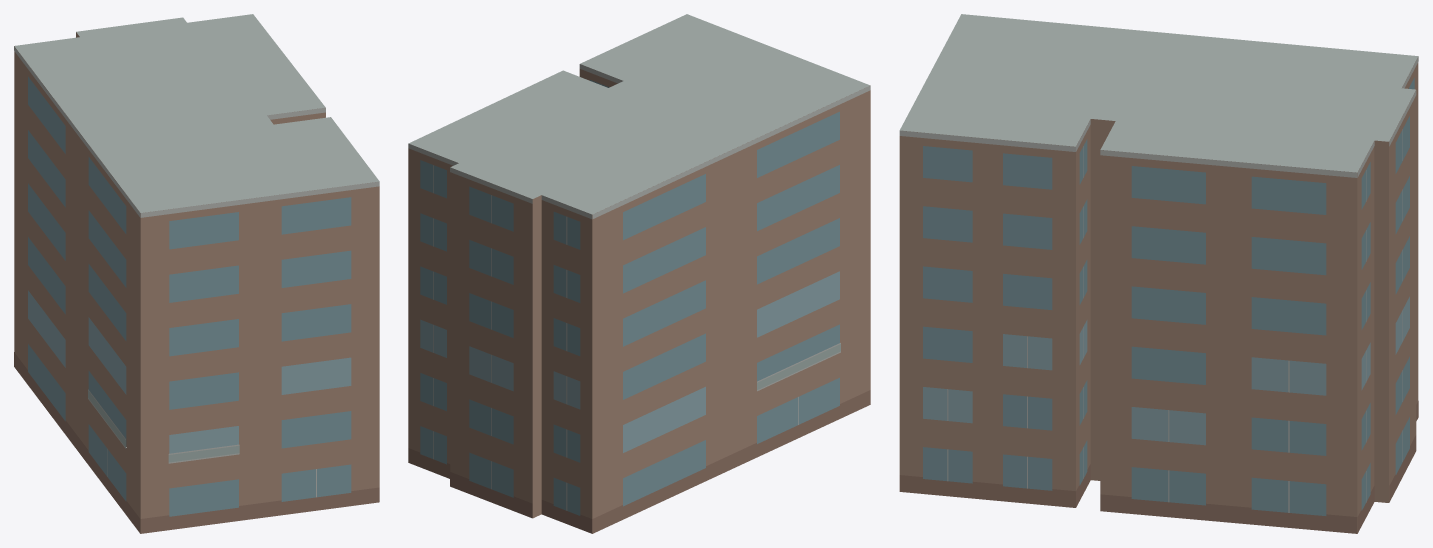
Rendered from survey-upis-32930263.glb.
The picture shows the model from 3 angles, left to right: view 1: azimuth 30°, elevation 25°; view 2: azimuth 150°, elevation 25°; view 3: azimuth 270°, elevation 25°; orthographic projection. The views are drawn at different scales.
Visible parts, largest first — view 1: survey-upis-32930263.tmp; view 2: survey-upis-32930263.tmp; view 3: survey-upis-32930263.tmp.
Boxes of the visible parts, bbox=[...] form: survey-upis-32930263.tmp: bbox=[14, 14, 379, 533]; survey-upis-32930263.tmp: bbox=[408, 14, 870, 533]; survey-upis-32930263.tmp: bbox=[899, 14, 1418, 533].
Bounding box in the file's own units: 15.26 × 16.2 × 21.09.
